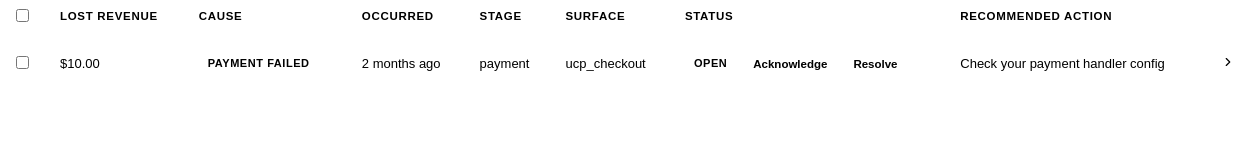
LedgerEntriesTable — row expand (R13) › renders a plain id (no link) when the session detail route does not exist
The image size is (1255, 160).
Step 1. Click the button with class "expand-btn" → (1228, 64), box [1217,51,1239,76]
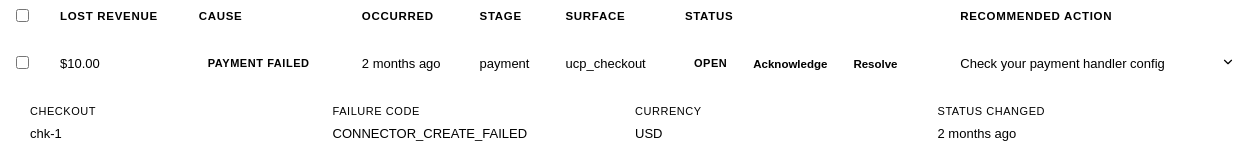
Check: the element with class "expand-grid" shows "chk-1", box [30,126,62,141]
